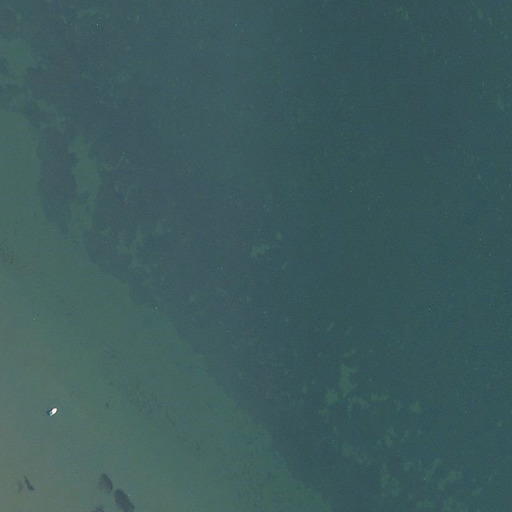ship: (48, 408, 56, 418)
